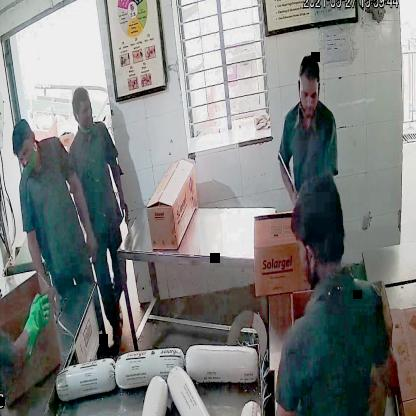no_goggles: (297, 85, 322, 106)
